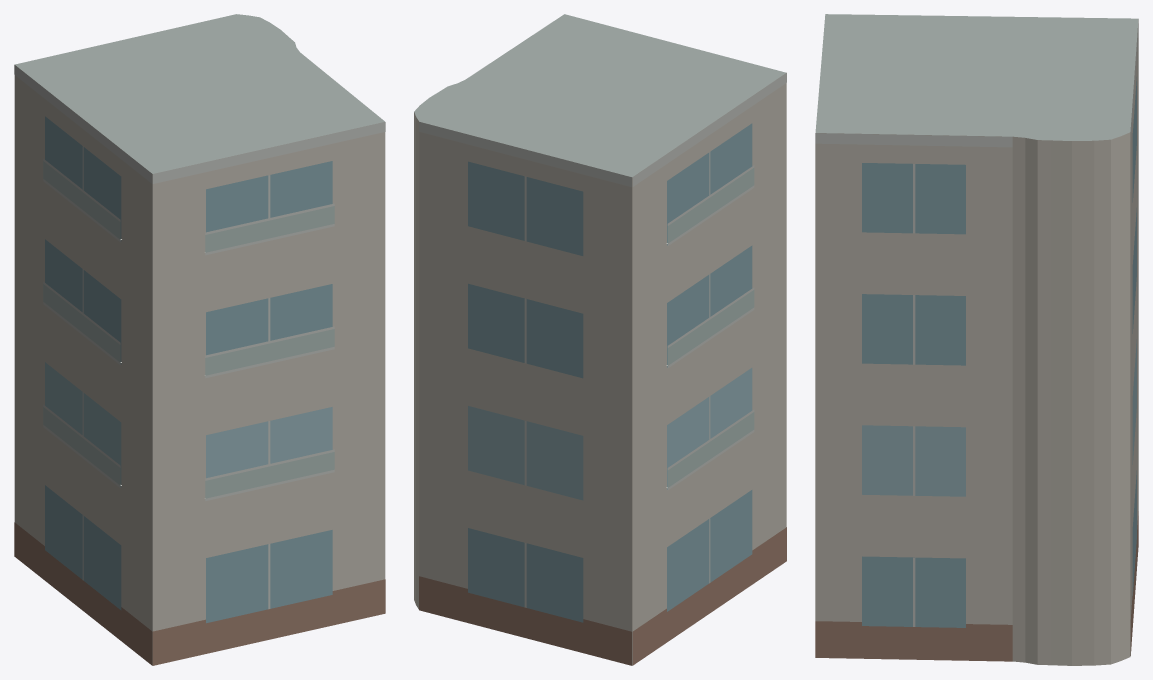
Rendered from survey-upis-32507565.glb.
3 renders of one model, left to right at view 1: azimuth 30°, elevation 25°; view 2: azimuth 150°, elevation 25°; view 3: azimuth 270°, elevation 25°, orthographic. The views are drawn at different scales.
Parts seen in each view (by area): view 1: survey-upis-32507565.tmp; view 2: survey-upis-32507565.tmp; view 3: survey-upis-32507565.tmp.
Part boxes in pixels (x1,y1,x2,y2): survey-upis-32507565.tmp: (14,14,385,665); survey-upis-32507565.tmp: (414,14,786,665); survey-upis-32507565.tmp: (815,14,1138,665).
Size of the model in its own units: 6.16 by 11.85 by 6.62.
